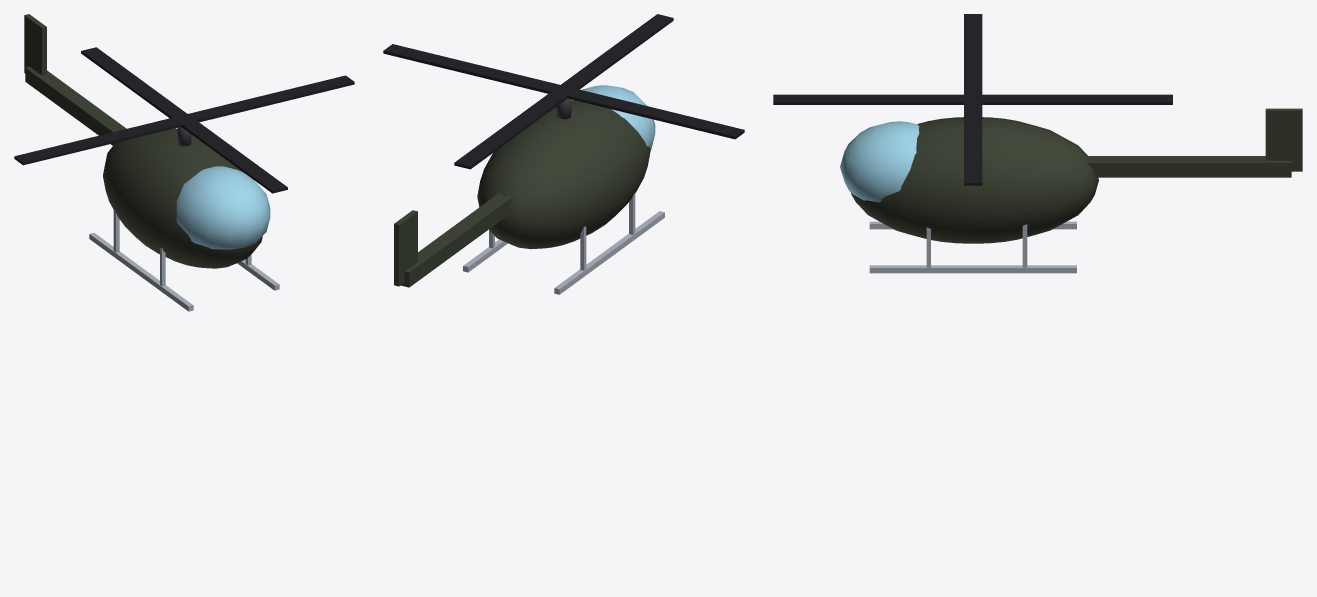
File: helicopter_air.glb
The picture shows the model from 3 angles, left to right: view 1: azimuth 30°, elevation 25°; view 2: azimuth 150°, elevation 25°; view 3: azimuth 270°, elevation 25°; orthographic projection. The views are drawn at different scales.
Parts seen in each view (by area): view 1: body, rotor; view 2: body, rotor; view 3: body, rotor.
Boxes of the visible parts, <box> form: body: <box>24,14,279,311</box>; rotor: <box>14,47,354,193</box>; body: <box>394,85,664,294</box>; rotor: <box>383,14,744,169</box>; body: <box>840,108,1302,273</box>; rotor: <box>773,14,1172,185</box>.
Bounding box in the file's own units: 5.4 × 7.22 × 7.15.
